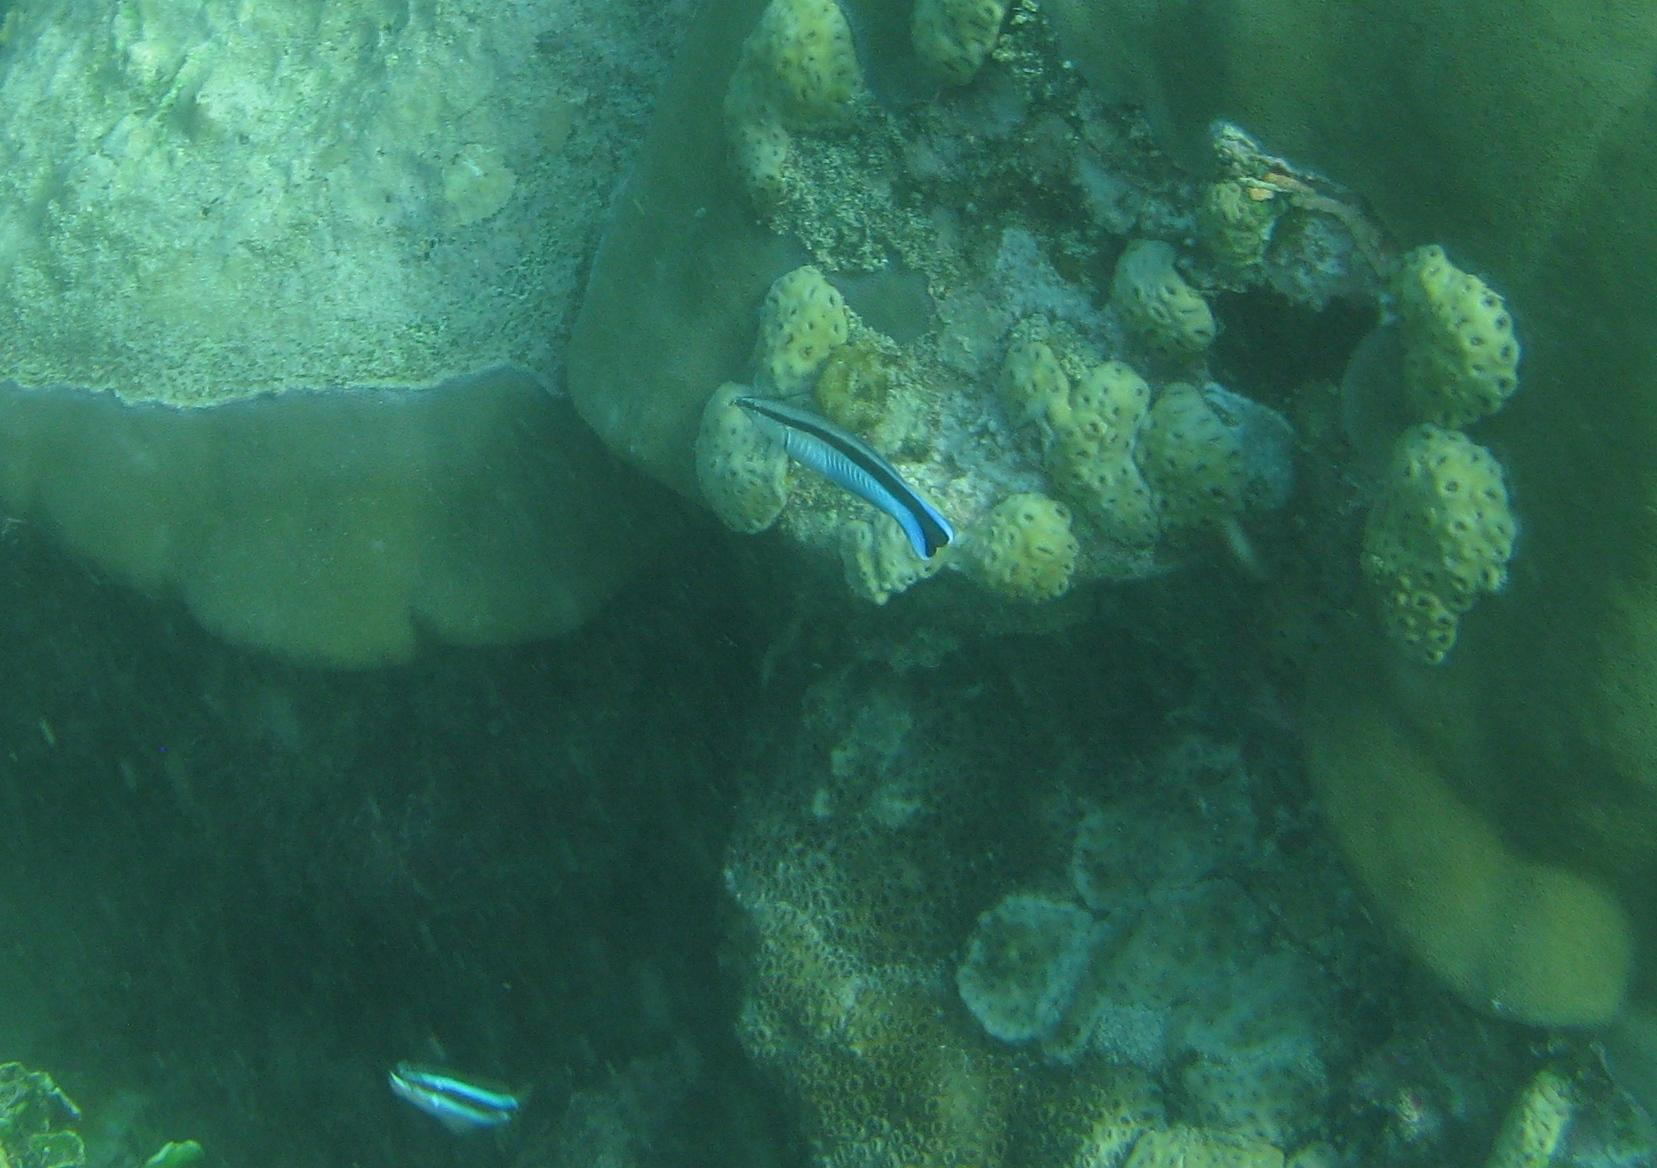Fish: (728, 378, 969, 564)
